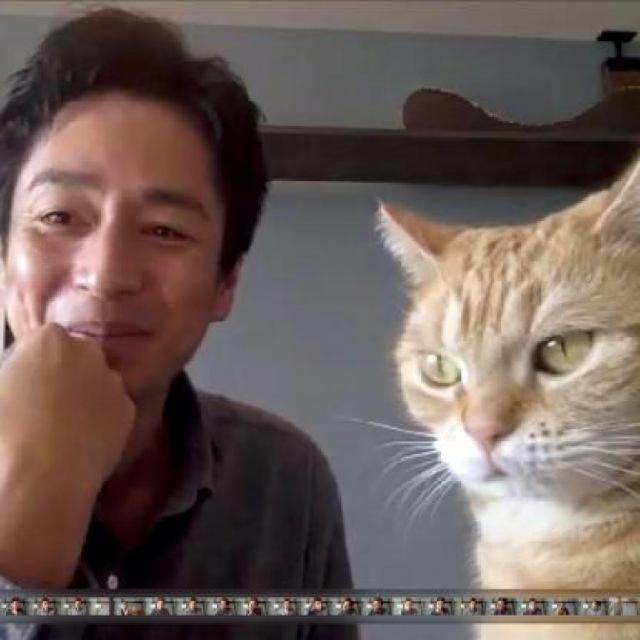cat: (370, 146, 639, 586)
